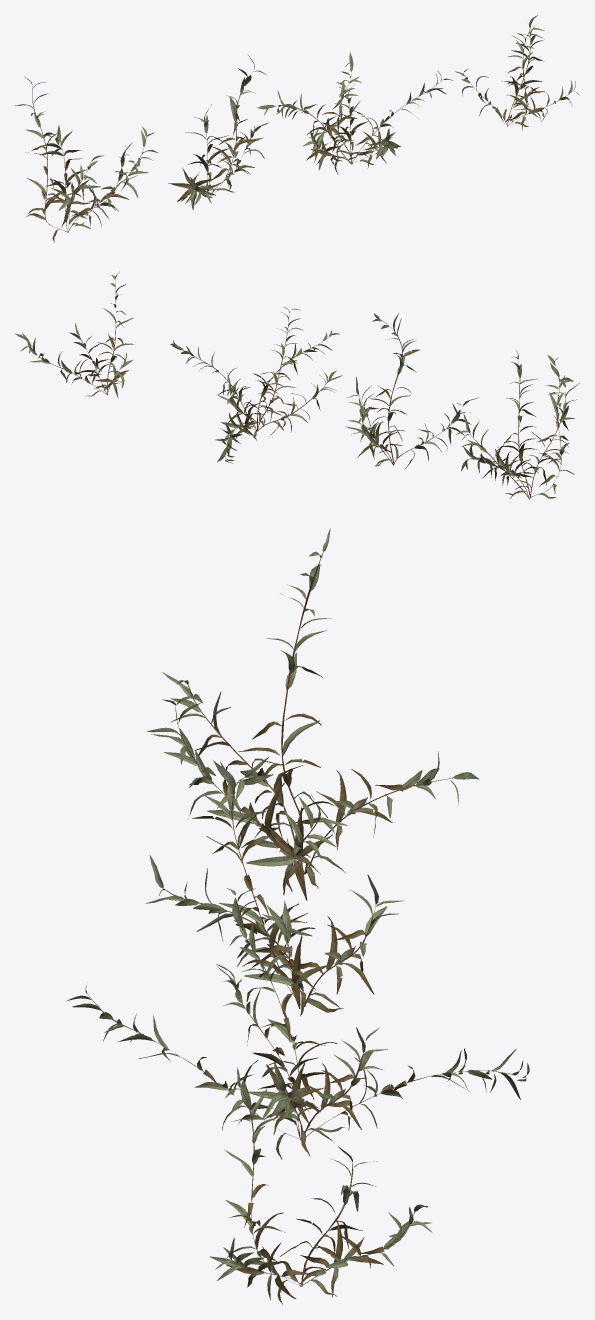
3 views of the same model, one above another, from view 1: azimuth 30°, elevation 25°; view 2: azimuth 150°, elevation 25°; view 3: azimuth 270°, elevation 25° (orthographic). The views are drawn at different scales.
Visible parts, largest first — view 1: shrub_02_c, shrub_02_a, shrub_02_b, shrub_02_d; view 2: shrub_02_a, shrub_02_c, shrub_02_b, shrub_02_d; view 3: shrub_02_a, shrub_02_c, shrub_02_b, shrub_02_d.
Boxes of the visible parts, x1=… form: shrub_02_c: x1=257, y1=52, x2=453, y2=174; shrub_02_a: x1=15, y1=76, x2=157, y2=242; shrub_02_b: x1=168, y1=55, x2=268, y2=209; shrub_02_d: x1=455, y1=15, x2=579, y2=130; shrub_02_a: x1=455, y1=350, x2=579, y2=499; shrub_02_c: x1=170, y1=307, x2=342, y2=463; shrub_02_b: x1=345, y1=313, x2=478, y2=468; shrub_02_d: x1=15, y1=272, x2=134, y2=398; shrub_02_a: x1=146, y1=528, x2=479, y2=900; shrub_02_c: x1=67, y1=888, x2=529, y2=1159; shrub_02_b: x1=145, y1=757, x2=404, y2=1017; shrub_02_d: x1=210, y1=1067, x2=432, y2=1304.
Bounding box in the file's own units: 6.05 × 1.7 × 2.29.
1 material, 1 textured.
